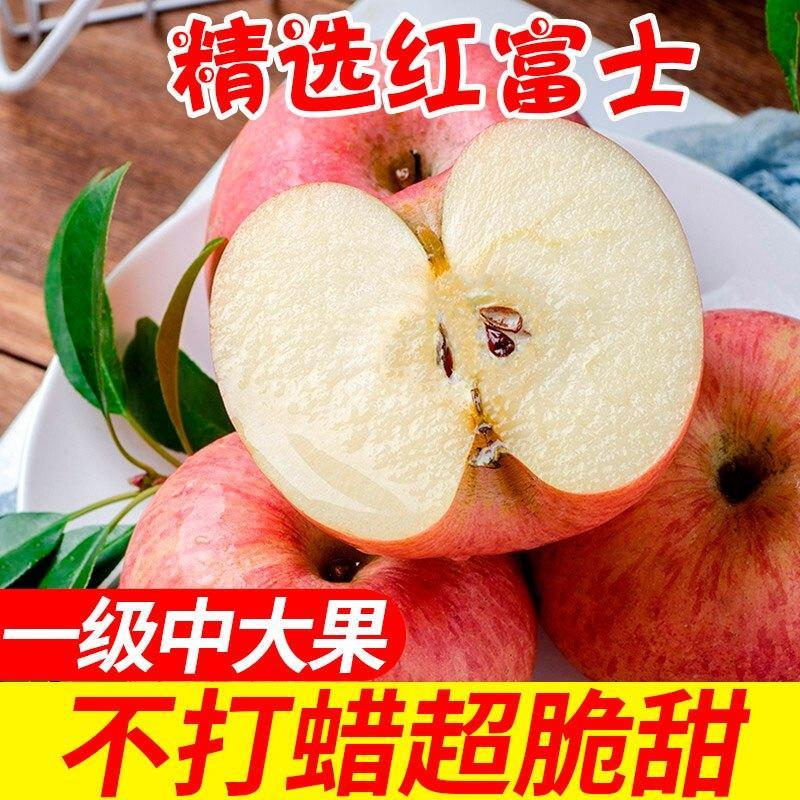apple: (207, 117, 708, 556), (116, 432, 536, 684), (525, 309, 800, 679), (201, 40, 594, 253)
